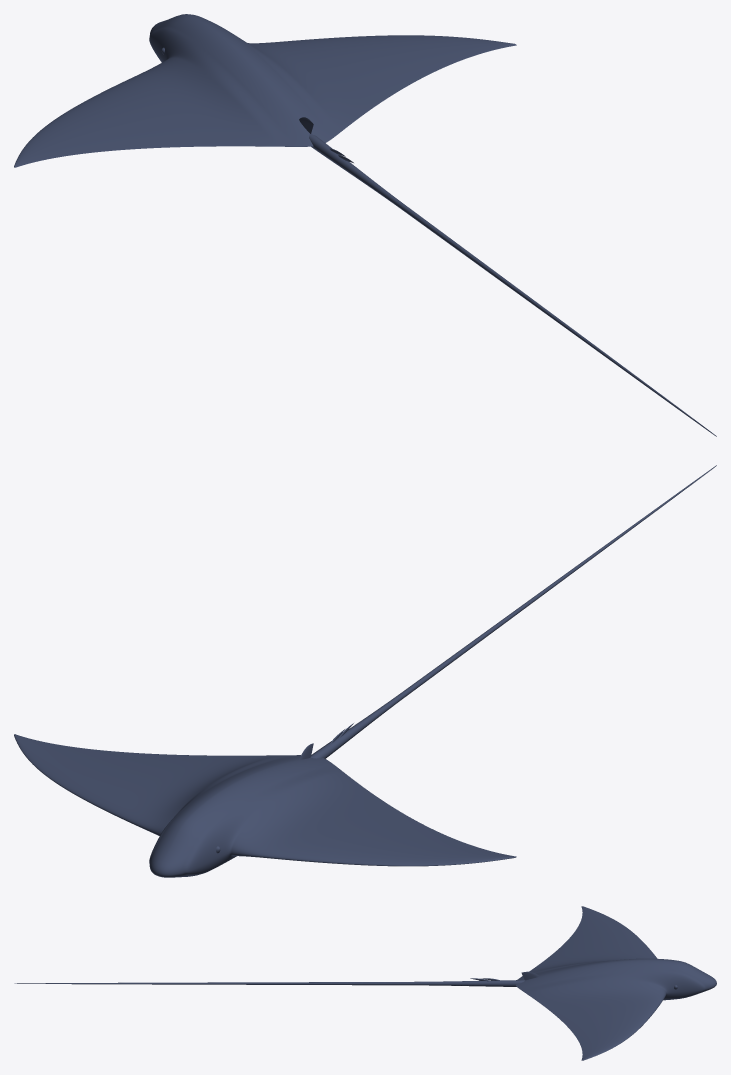
Rendered from spotted_eagle_ray.glb.
3 renders of one model, top to bottom at view 1: azimuth 30°, elevation 25°; view 2: azimuth 150°, elevation 25°; view 3: azimuth 270°, elevation 25°, orthographic. The views are drawn at different scales.
Visible parts, largest first — view 1: spotted_eagle_ray; view 2: spotted_eagle_ray; view 3: spotted_eagle_ray.
Boxes of the visible parts, x1,y1,x2,y2 form: spotted_eagle_ray: (14,14,716,436); spotted_eagle_ray: (14,465,716,877); spotted_eagle_ray: (14,906,716,1060).
Bounding box in the file's own units: 2 × 0.23 × 3.85.
